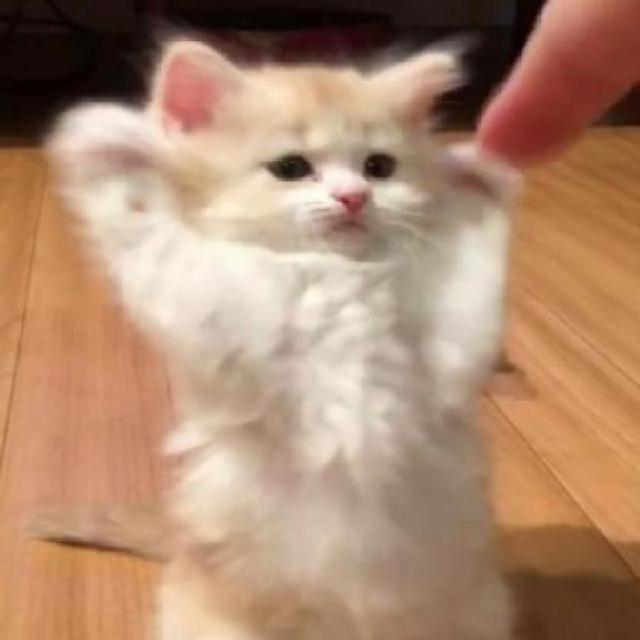cat: (46, 23, 557, 640)
